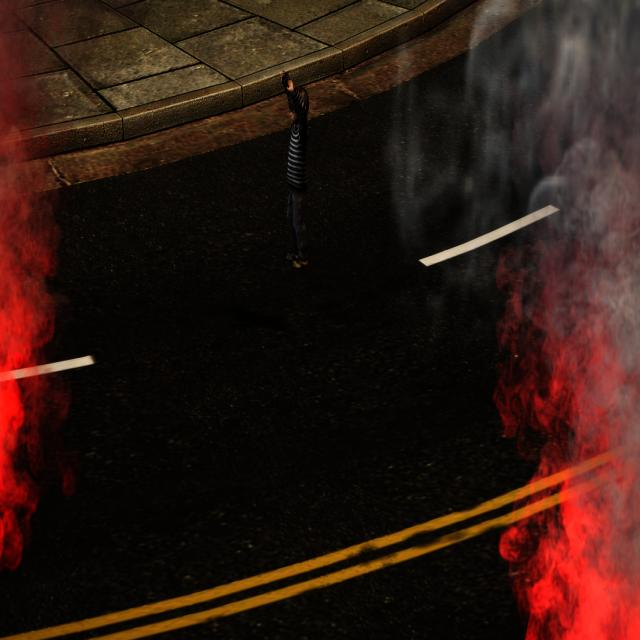Human: (278, 65, 312, 279)
